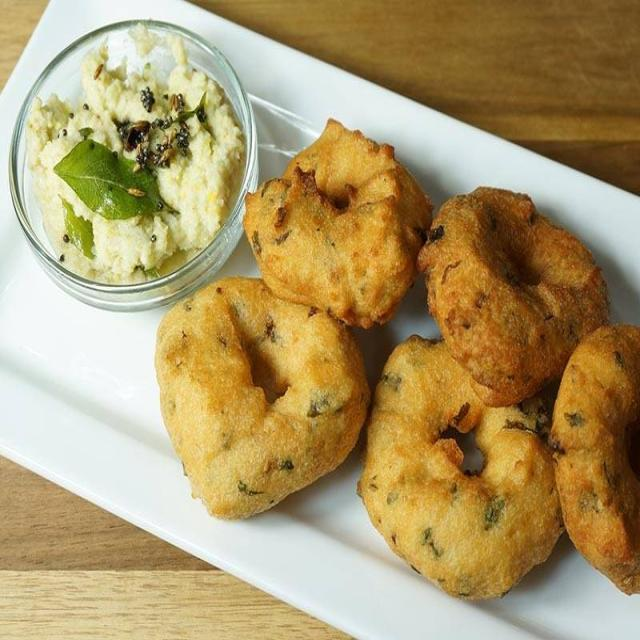MEDU VADA: (158, 277, 363, 522), (367, 349, 557, 595), (419, 190, 609, 401), (250, 127, 424, 329), (552, 327, 639, 603)
